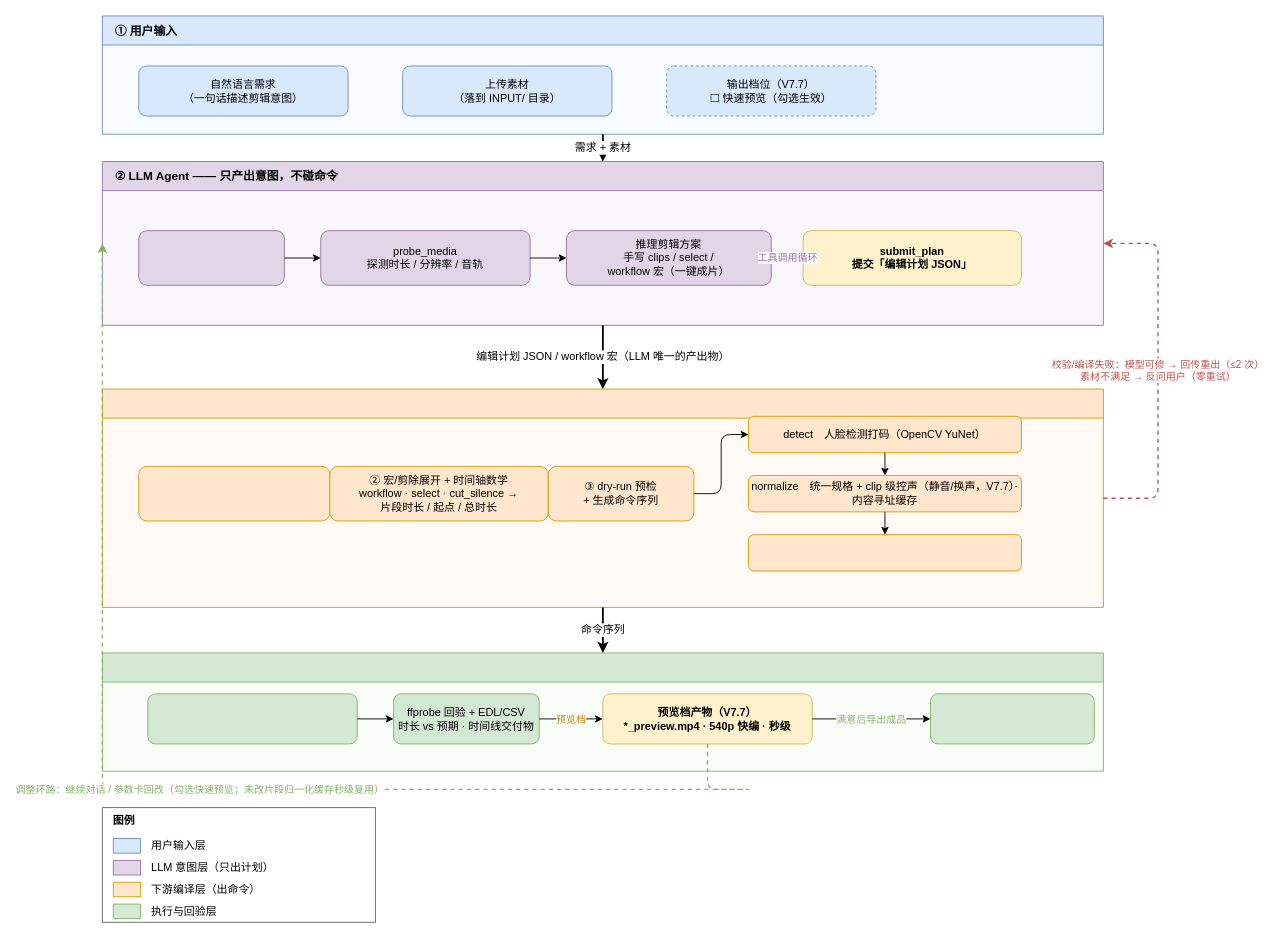
The diagram is 1279 pixels wide and 938 high, and some of its shapes have lost their labels. The shapes that lost their labels are listed below. From the top down, each one's box as (x1, y1, x2, y2) in pixels, then its label:
(138, 230, 284, 285): ls INPUT/ 看有哪些素材
(138, 465, 330, 521): ① 校验 + Preflight schema · 白名单 · 素材实况 （用户可决 → 反问）
(101, 388, 1103, 607): ③ 下游编译器 —— 把意图编译成确定性命令
(748, 534, 1021, 571): render 转场 + 字幕/叠加 + BGM 混音 · 按档位编码输出
(147, 693, 357, 744): 执行（subprocess）· detect/normalize 并行 归一化缓存：未改片段直接复用
(101, 652, 1103, 771): ④ 执行与回验
(930, 693, 1094, 744): OUTPUT/ 成品 原分辨率完整编码
